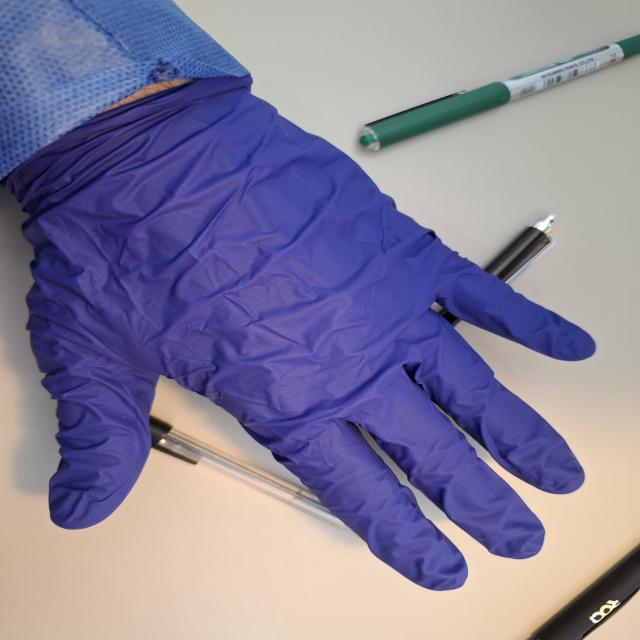glove_on: (2, 65, 600, 594)
